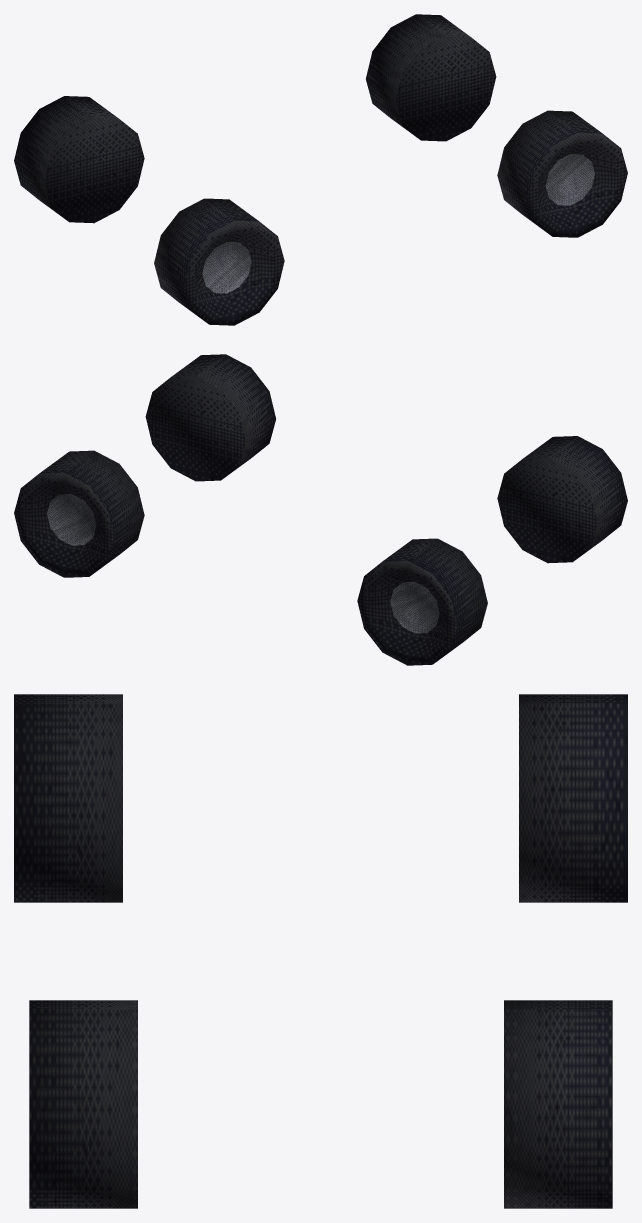
File: wheels.fbx
The picture shows the model from 3 angles, top to bottom: view 1: azimuth 30°, elevation 25°; view 2: azimuth 150°, elevation 25°; view 3: azimuth 270°, elevation 25°; orthographic projection. The views are drawn at different scales.
Visible parts, largest first — view 1: Cylinder.005, Cylinder.003, Cylinder.004, Cylinder.002; view 2: Cylinder.002, Cylinder.003, Cylinder.004, Cylinder.005; view 3: Cylinder.002, Cylinder.003, Cylinder.004, Cylinder.005.
Boxes of the visible parts, left/top/right/bottom form: Cylinder.005: left=497, top=110, right=627, bottom=237; Cylinder.003: left=14, top=96, right=144, bottom=223; Cylinder.004: left=154, top=198, right=284, bottom=325; Cylinder.002: left=366, top=14, right=496, bottom=141; Cylinder.002: left=14, top=450, right=144, bottom=577; Cylinder.003: left=357, top=538, right=487, bottom=665; Cylinder.004: left=497, top=436, right=627, bottom=563; Cylinder.005: left=145, top=354, right=275, bottom=481; Cylinder.002: left=504, top=1000, right=612, bottom=1208; Cylinder.003: left=519, top=694, right=627, bottom=902; Cylinder.004: left=14, top=694, right=122, bottom=902; Cylinder.005: left=29, top=1000, right=137, bottom=1208.
Size of the model in its own units: 184 by 41.27 by 121.
Materials: 2 (2 with a texture image).
